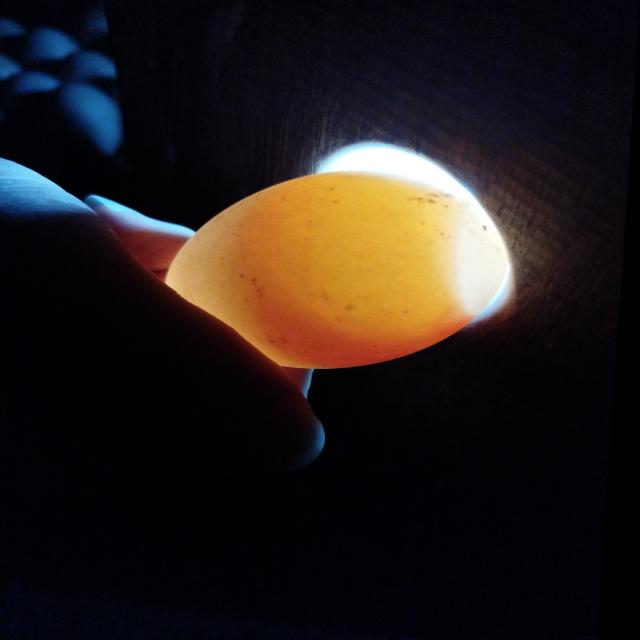Camara de Ar: (462, 207, 511, 316)
